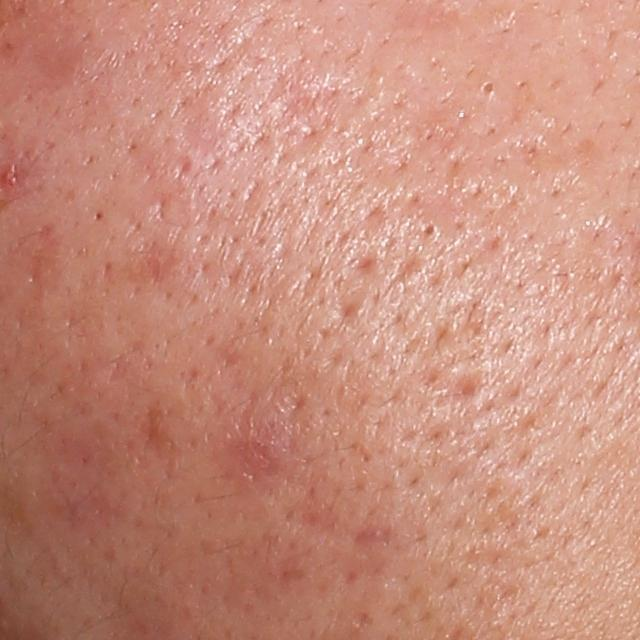atrophic_scar: (138, 396, 182, 475), (353, 522, 402, 551)
comedo: (416, 216, 442, 243)
